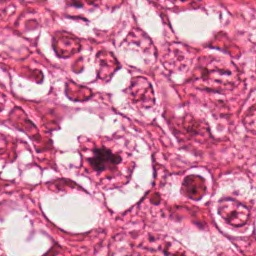mitosis: (31, 232, 41, 242)
